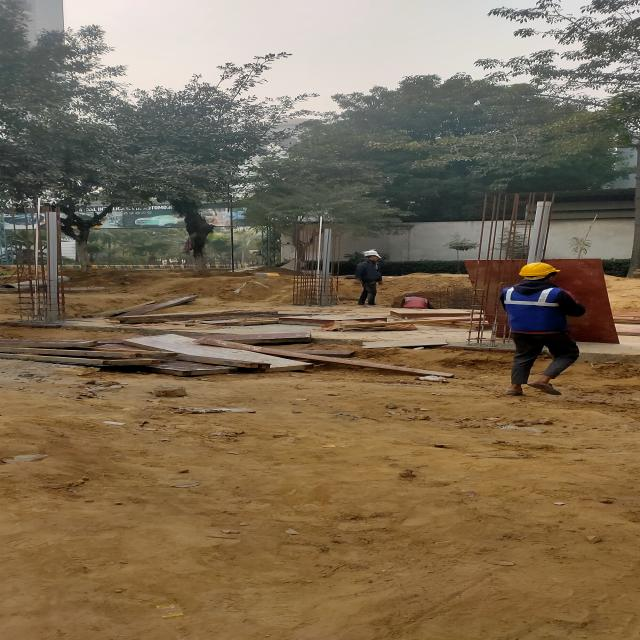safe: (498, 260, 598, 402)
unsafe: (355, 252, 386, 308)
